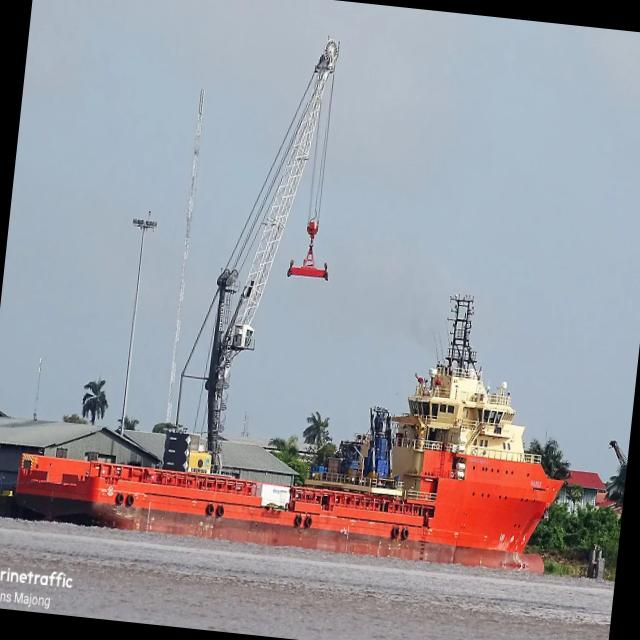Offshore: (15, 297, 563, 572)
